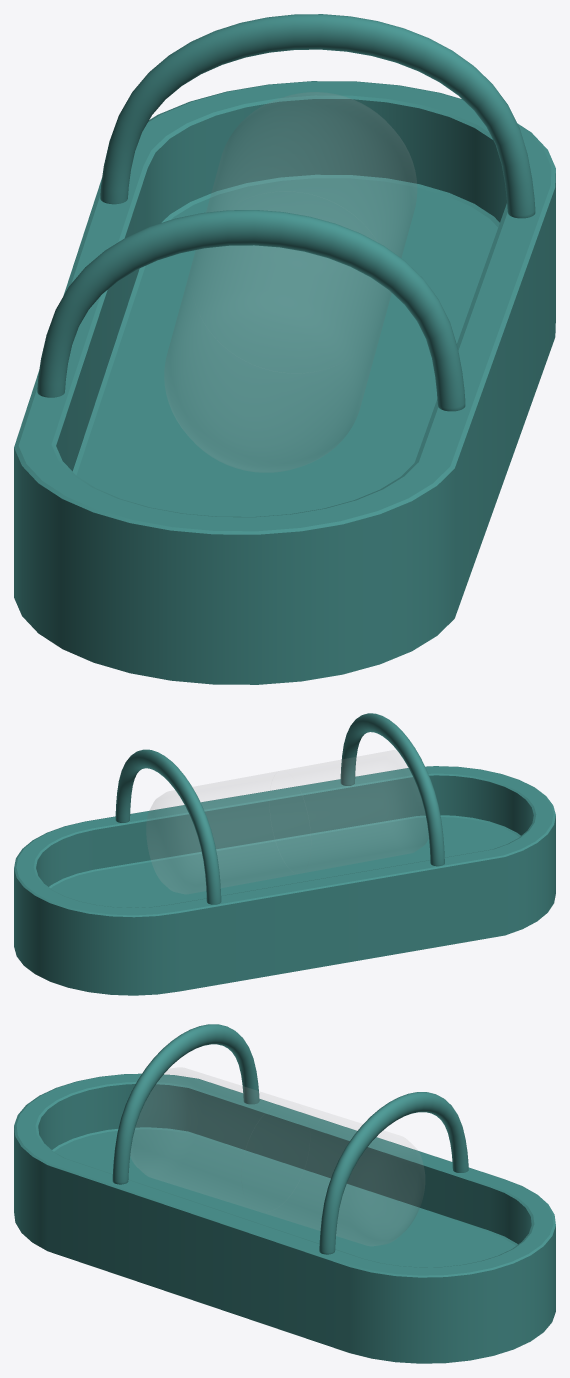
The model's file is CenaEnergia.fbx.
3 renders of one model, top to bottom at view 1: azimuth 30°, elevation 25°; view 2: azimuth 150°, elevation 25°; view 3: azimuth 270°, elevation 25°, orthographic. The views are drawn at different scales.
Parts seen in each view (by area): view 1: Cylinder.042, Cylinder.025, Cylinder.031; view 2: Cylinder.042, Cylinder.025, Cylinder.031; view 3: Cylinder.042, Cylinder.025, Cylinder.031.
Boxes of the visible parts, left/top/right/bottom form: Cylinder.042: left=14, top=81, right=555, bottom=684; Cylinder.025: left=165, top=92, right=416, bottom=471; Cylinder.031: left=37, top=14, right=535, bottom=411; Cylinder.042: left=14, top=766, right=555, bottom=995; Cylinder.025: left=147, top=750, right=428, bottom=893; Cylinder.031: left=115, top=713, right=444, bottom=904; Cylinder.042: left=14, top=1073, right=555, bottom=1363; Cylinder.025: left=131, top=1068, right=424, bottom=1245; Cylinder.031: left=112, top=1024, right=468, bottom=1254.
Bounding box in the file's own units: 68.45 × 30.85 × 76.83.
